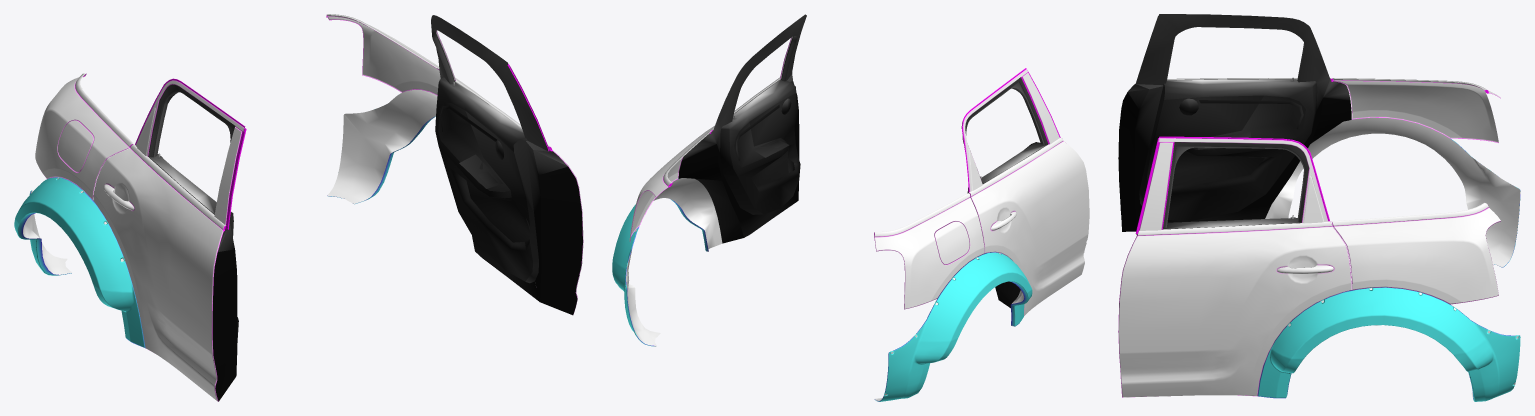
The model's file is Car_Mini_CountrymanJCW_2017_FendersR_SetE_AltB.fbx.
3 views of the same model, side by side, from view 1: azimuth 30°, elevation 25°; view 2: azimuth 150°, elevation 25°; view 3: azimuth 270°, elevation 25° (orthographic). The views are drawn at different scales.
Visible parts, largest first — view 1: FendersR 6; view 2: FendersR 6; view 3: FendersR 6.
Part boxes in pixels (bbox=[...]): FendersR 6: bbox=[14, 14, 583, 401]; FendersR 6: bbox=[612, 14, 1089, 401]; FendersR 6: bbox=[1118, 14, 1520, 401].
Size of the model in its own units: 2 by 1.21 by 1.74.
